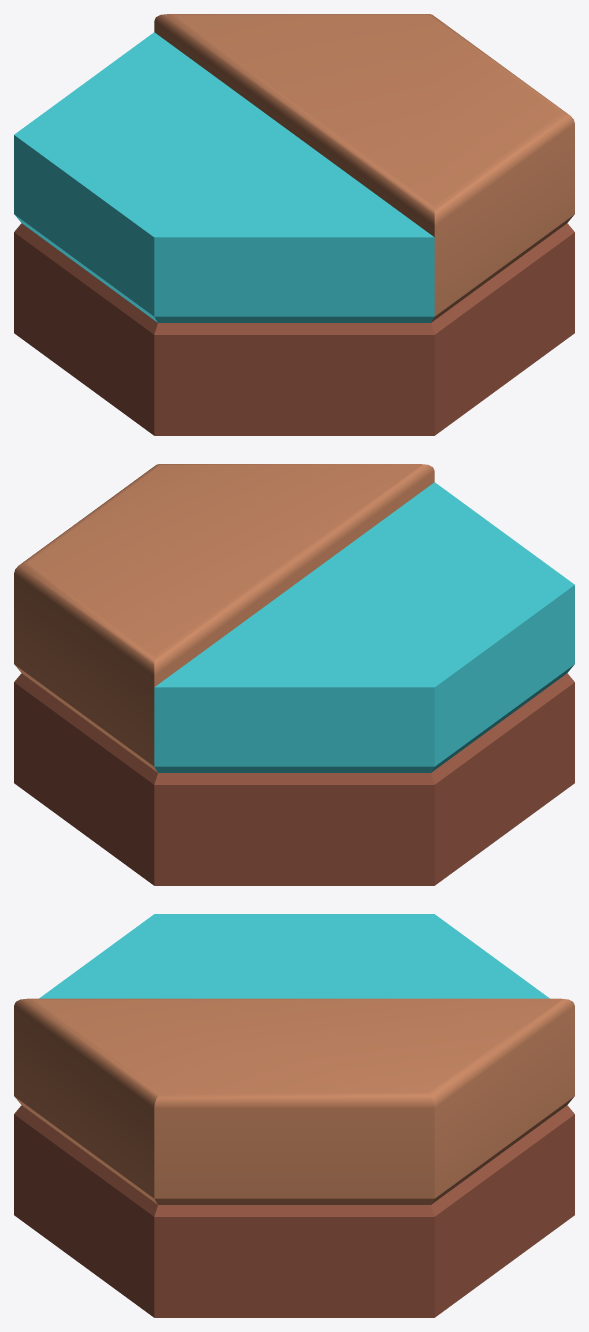
The model's file is hex_rock_waterB_detail.glb.
The picture shows the model from 3 angles, top to bottom: view 1: azimuth 30°, elevation 25°; view 2: azimuth 150°, elevation 25°; view 3: azimuth 270°, elevation 25°; orthographic projection.
Visible parts, largest first — view 1: hex_rock_waterB_detail; view 2: hex_rock_waterB_detail; view 3: hex_rock_waterB_detail.
Part boxes in pixels (x1,y1,x2,y2): hex_rock_waterB_detail: [14, 14, 574, 435]; hex_rock_waterB_detail: [14, 464, 574, 885]; hex_rock_waterB_detail: [14, 914, 574, 1317].
Bounding box in the file's own units: 2 × 1 × 2.31.
